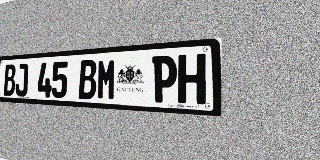4: (37, 62, 52, 98)
5: (52, 61, 68, 98)
B: (79, 60, 97, 100), (4, 64, 16, 96)
H: (178, 53, 206, 104)
J: (15, 63, 28, 97)
M: (97, 58, 117, 100)
P: (152, 55, 177, 103)
